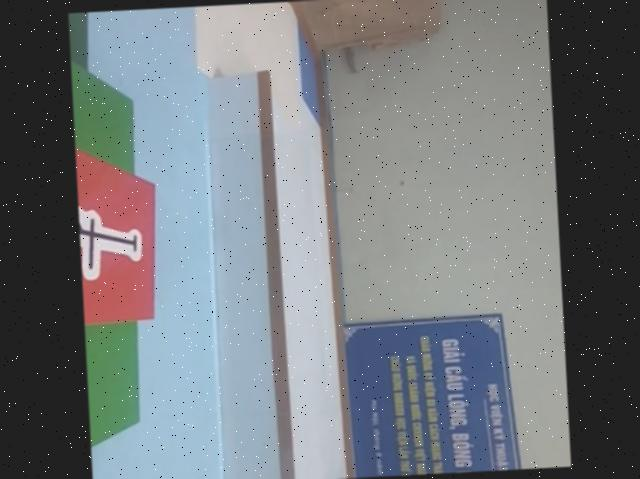R2 Real: (75, 132, 166, 328)
